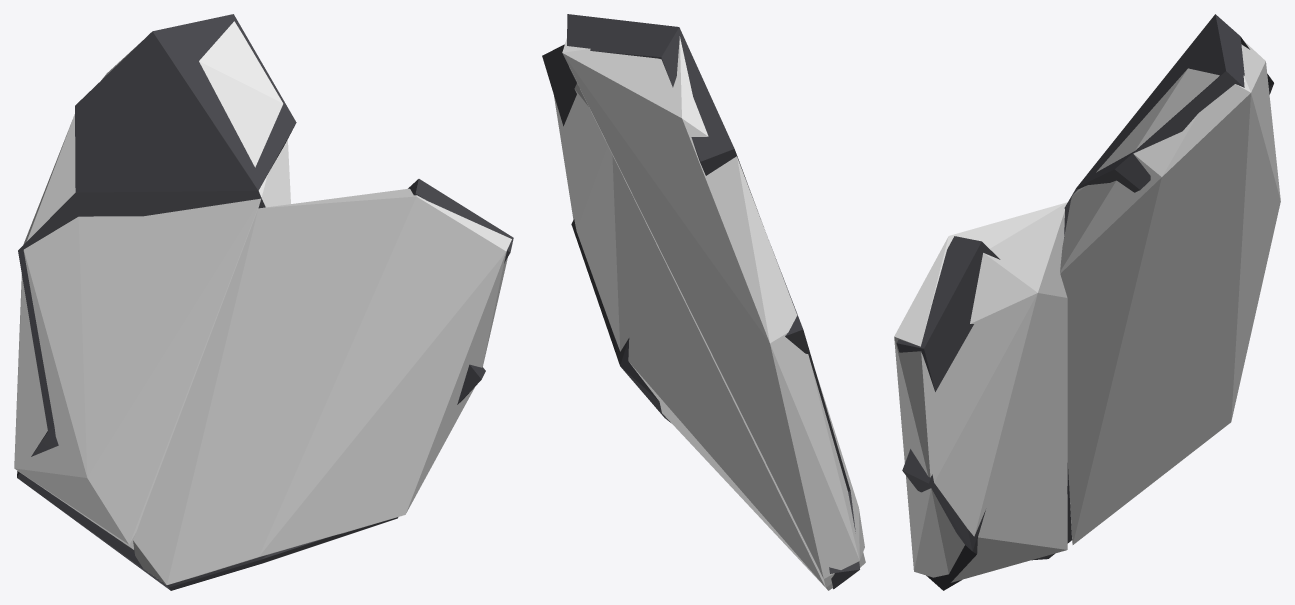
The model's file is SM_Env_Debris_Shell_07.fbx.
The picture shows the model from 3 angles, left to right: view 1: azimuth 30°, elevation 25°; view 2: azimuth 150°, elevation 25°; view 3: azimuth 270°, elevation 25°; orthographic projection. The views are drawn at different scales.
Parts seen in each view (by area): view 1: SM_Env_Debris_Shell_07_ConvexHulls, SM_Env_Debris_Shell_07_LOD0; view 2: SM_Env_Debris_Shell_07_ConvexHulls, SM_Env_Debris_Shell_07_LOD0; view 3: SM_Env_Debris_Shell_07_ConvexHulls, SM_Env_Debris_Shell_07_LOD0.
Part boxes in pixels (box(x1,y1,x2,y2)): SM_Env_Debris_Shell_07_ConvexHulls: box(14, 21, 511, 584); SM_Env_Debris_Shell_07_LOD0: box(17, 14, 513, 590); SM_Env_Debris_Shell_07_ConvexHulls: box(554, 36, 865, 590); SM_Env_Debris_Shell_07_LOD0: box(542, 14, 859, 589); SM_Env_Debris_Shell_07_ConvexHulls: box(894, 41, 1280, 582); SM_Env_Debris_Shell_07_LOD0: box(896, 14, 1273, 590).
Bounding box in the file's own units: 330 × 433 × 541.
Materials: 1 (1 with a texture image).
